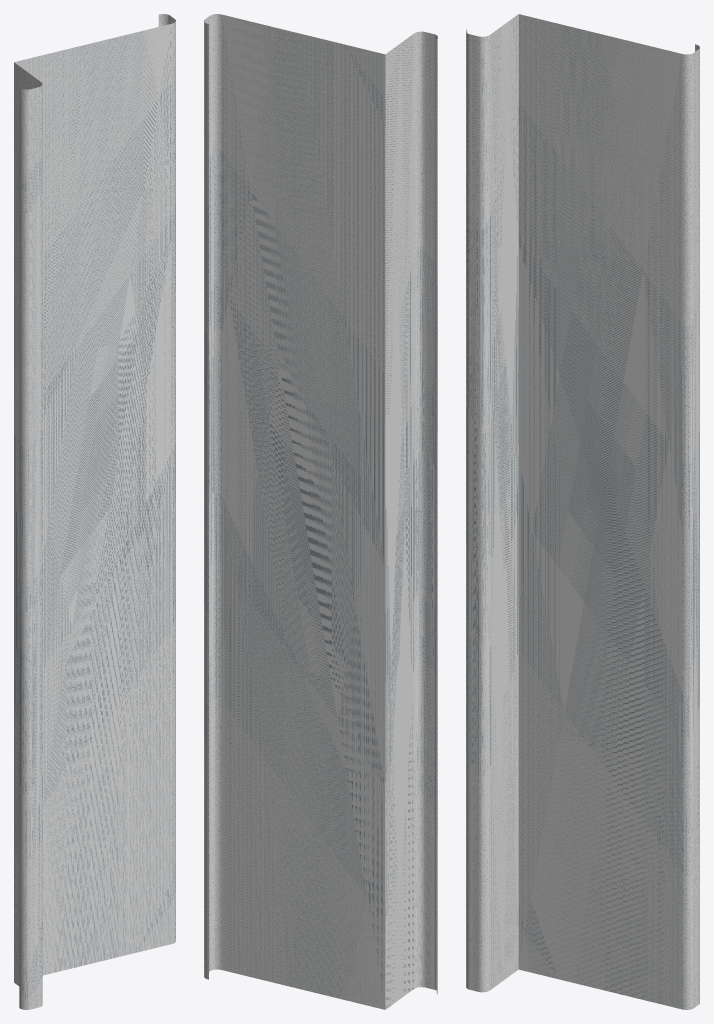
The model's file is PW_CornerFixElem_os_T2_035x085x010x400.dae.
3 views of the same model, side by side, from view 1: azimuth 30°, elevation 25°; view 2: azimuth 150°, elevation 25°; view 3: azimuth 330°, elevation 25° (orthographic). The views are drawn at different scales.
Parts seen in each view (by area): view 1: group_0; view 2: group_0; view 3: group_0.
Part boxes in pixels (x1,y1,x2,y2): group_0: (14, 14, 175, 1009); group_0: (204, 14, 437, 1009); group_0: (466, 14, 699, 1009).
Size of the model in its own units: 33.46 by 13.78 by 157.
